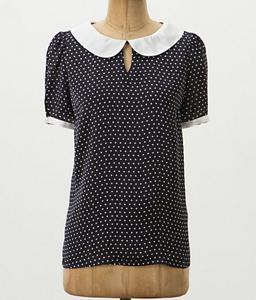S_short blouse: (41, 18, 212, 279)
